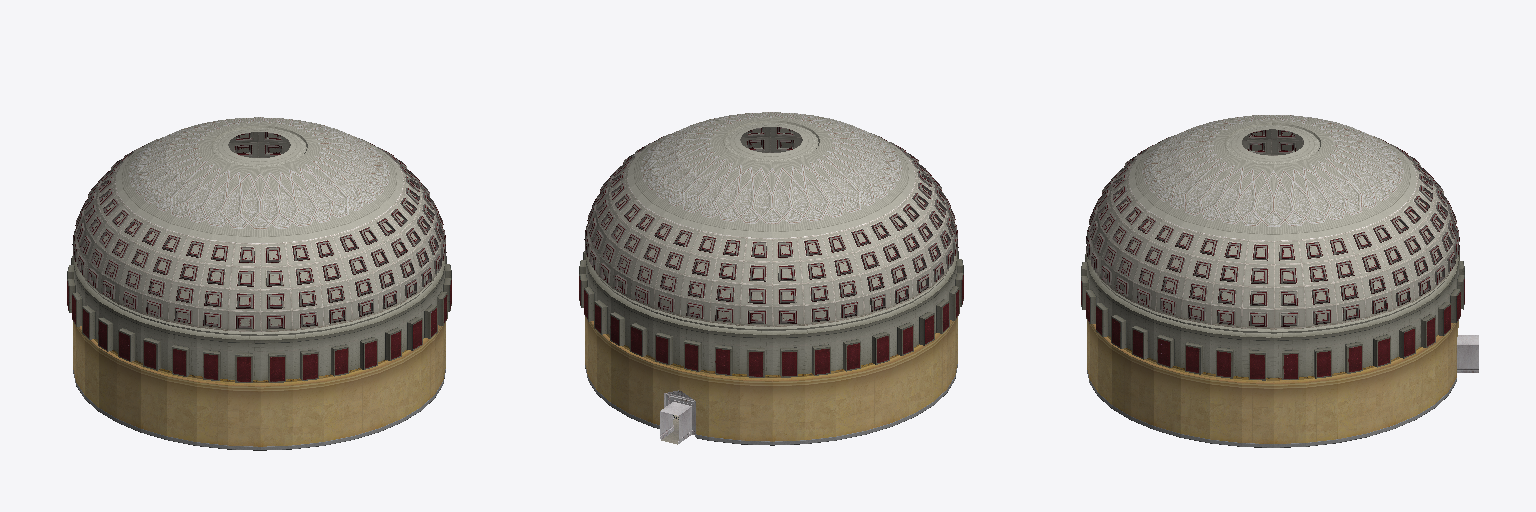
3 renders of one model, left to right at view 1: azimuth 30°, elevation 25°; view 2: azimuth 150°, elevation 25°; view 3: azimuth 270°, elevation 25°, orthographic.
Visible parts, largest first — view 1: Spawn_Dach_Segment009, Spawn_Wand_Standart_Segment011; view 2: Spawn_Dach_Segment009, Spawn_Wand_Standart_Segment011, Door; view 3: Spawn_Dach_Segment009, Spawn_Wand_Standart_Segment011, Door.
Part boxes in pixels (x1,y1,x2,y2): Spawn_Dach_Segment009: (67, 117, 451, 386); Spawn_Wand_Standart_Segment011: (73, 322, 445, 450); Spawn_Dach_Segment009: (579, 112, 963, 381); Spawn_Wand_Standart_Segment011: (585, 317, 957, 445); Door: (660, 390, 695, 443); Spawn_Dach_Segment009: (1081, 115, 1464, 383); Spawn_Wand_Standart_Segment011: (1087, 320, 1458, 447); Door: (1457, 335, 1478, 372).
Size of the model in its own units: 33.5 by 21.8 by 34.69.
Materials: 5 (5 with a texture image).